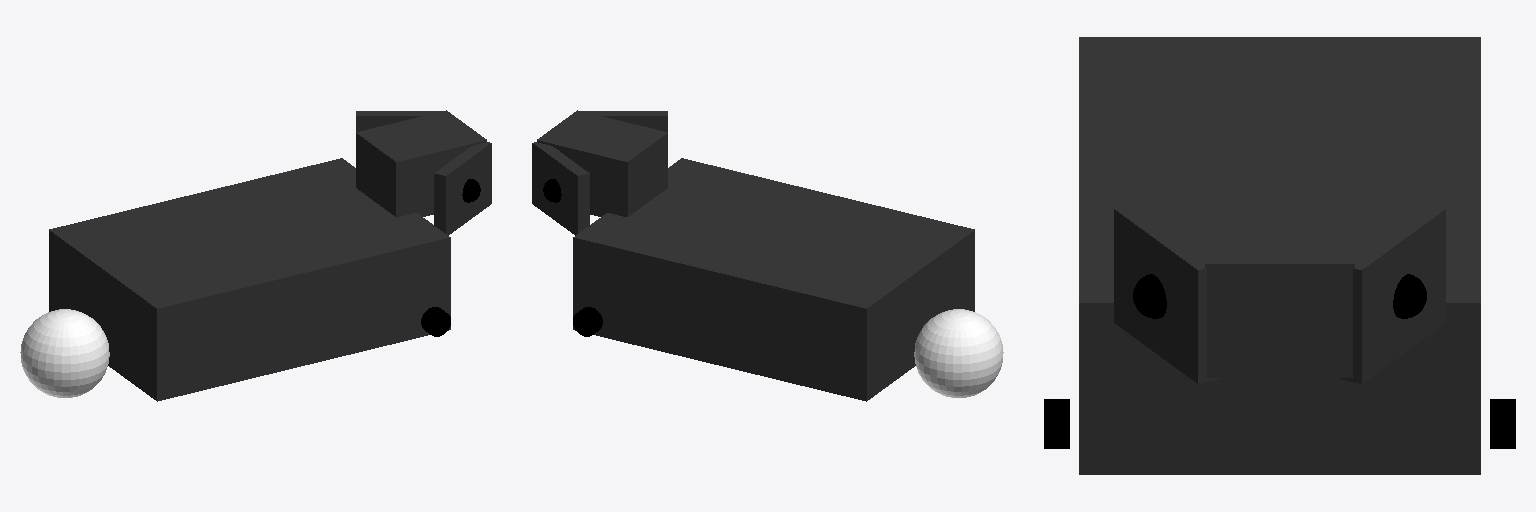
URDF robot description (flywheel):
<?xml version="1.0"?>
<robot name="flywheel">
  <material name='grey'>
    <color rgba="0.25 0.25 0.25 1"/>
  </material>
  <material name='black'>
    <color rgba="0 0 0 1"/>
  </material>
  <material name='white'>
    <color rgba="1 1 1 1"/>
  </material>

  <link name="base_link">
  </link>

  <joint name="chassis_joint" type="fixed">
    <parent link="base_link"/>
    <child link="chassis"/>
    <origin xyz="0 0 0"/>
  </joint>
  <link name="chassis">
    <visual>
      <geometry>
        <box size="0.25 0.16 0.0755"/>
      </geometry>
      <material name="grey"/>
      <origin rpy="0 0 0" xyz="-0.107705 0 .0235"/>
    </visual>
    <collision>
      <geometry>
        <box size="0.25 0.16 0.0755"/>
      </geometry>
      <origin rpy="0 0 0" xyz="-0.107705 0 .0235"/>
    </collision>
    <visual>
      <geometry>
        <box size="0.077488 0.06 0.05"/>
      </geometry>
      <origin rpy="0 0 0" xyz="0.038744 0 0.08125"/>
      <material name="grey"/>
    </visual>
    <collision>
      <geometry>
        <box size="0.077488 0.06 0.05"/>
      </geometry>
      <origin rpy="0 0 0" xyz="0.038744 0 0.08125"/>
    </collision>
    <visual>
      <geometry>
        <box size="0.06734 0.01 0.05"/>
      </geometry>
      <origin rpy="0 0 -0.523599" xyz="0.04793 0.045067 0.0795"/>
      <material name='grey'/>
    </visual>
    <collision>
      <geometry>
        <box size="0.06734 0.01 0.05"/>
      </geometry>
      <origin rpy="0 0 -0.523599" xyz="0.04793 0.045067 0.0795"/>
    </collision>
    <visual>
      <geometry>
        <box size="0.06734 0.01 0.05"/>
      </geometry>
      <origin rpy="0 0 0.523599" xyz="0.04793 -0.045067 0.0795"/>
      <material name='grey'/>
    </visual>
    <collision>
      <geometry>
        <box size="0.06734 0.01 0.05"/>
      </geometry>
      <origin rpy="0 0 0.523599" xyz="0.04793 -0.045067 0.0795"/>
    </collision>
    <inertial>
      <mass value="1.414"/>
      <inertia ixx="0.003688" ixy="0.0" ixz="0.0" iyy="0.008036" iyz="0.0" izz=".010381"/>
      <origin rpy="0 0 0" xyz="-0.107705 0 .0235"/>
    </inertial>
  </link>
  <gazebo reference="chassis">
    <material>Gazebo/DarkGrey</material>
    <!-- <mu1 value="0.001"/>
    <mu2 value="0.001"/> -->
  </gazebo>

  <joint name="camera_left_joint" type="fixed">
    <parent link="chassis"/>
    <child link="camera_left"/>
    <!-- <origin rpy="0 1.57075 -0.523599" xyz="0.04793 0.045067 0.0795"/> -->
    <origin rpy="0 0 1.047151" xyz="0.0502 0.049522 0.0795"/>
  </joint>
  <link name="camera_left">
    <visual>
      <geometry>
        <sphere length="0.015" radius="0.009"/>
      </geometry>
      <material name="black"/>
    </visual>
    <collision>
      <geometry>
        <sphere length="0.015" radius="0.009"/>
      </geometry>
    </collision>
    <inertial>
      <mass value="2.8498940e-02" />
      <inertia ixx="5.7929667e-05" ixy="0.0" ixz="0.0"
               iyy="5.7929667e-05" iyz="-1.4400107e-11"
               izz="1.923075e-05" />
    </inertial>
  </link>
  <gazebo reference="camera_left">
    <material>Gazebo/Black</material>
    <sensor name="camera_sensor_left" type="camera">
      <pose> 0 0 0 0 0 0 </pose>
      <visualize>true</visualize>
      <update_rate>30</update_rate>
      <camera>
        <horizontal_fov>2.79253</horizontal_fov>
        <image>
          <format>R8G8B8</format>
          <width>1640</width>
          <height>1232</height>
        </image>
        <clip>
            <near>0.02</near>
            <far>20.0</far>
        </clip>
        <noise>
          <type>gaussian</type>
          <mean>0.0</mean>
          <stddev>0.007</stddev>
        </noise>
      </camera>
      <plugin name="camera_left_controller" filename="libgazebo_ros_camera.so">
        <cameraName>camera_left</cameraName>
        <imageTopicName>image_raw</imageTopicName>
        <cameraInfoTopicName>camera_info</cameraInfoTopicName>
        <frameName>camera_left_optical</frameName>
      </plugin>
    </sensor>
  </gazebo>
  <joint name="camera_left_optical_joint" type="fixed">
    <origin xyz="0 0 0" rpy="-1.57075 0 -1.57075" />
    <parent link="camera_left" />
    <child link="camera_left_optical" />
  </joint>
  <link name="camera_left_optical"></link>

  <joint name="camera_right_joint" type="fixed">
    <parent link="chassis"/>
    <child link="camera_right"/>
    <!-- <origin rpy="-1.57075 0 -0.523599" xyz="0.04793 -0.045067 0.0795"/> -->
    <origin rpy="0 0 -1.047151" xyz="0.0502 -0.049522 0.0795"/>
  </joint>
  <link name="camera_right">
    <visual>
      <geometry>
        <sphere radius="0.009"/>
      </geometry>
      <material name="black"/>
    </visual>
    <collision>
      <geometry>
        <sphere radius="0.001"/>
      </geometry>
    </collision>
    <inertial>
      <mass value="2.8498940e-02" />
      <inertia ixx="5.7929667e-05" ixy="0.0" ixz="0.0"
               iyy="5.7929667e-05" iyz="-1.4400107e-11"
               izz="1.923075e-05" />
    </inertial>
  </link>
  <gazebo reference="camera_right">
    <material>Gazebo/Black</material>
    <sensor name="camera_sensor_right" type="camera">
      <pose> 0 0 0 0 0 0 </pose>
      <visualize>true</visualize>
      <update_rate>30</update_rate>
      <camera>
        <horizontal_fov>2.79253</horizontal_fov>
        <image>
          <format>R8G8B8</format>
          <width>1640</width>
          <height>1232</height>
        </image>
        <clip>
            <near>0.02</near>
            <far>20.0</far>
        </clip>
        <noise>
          <type>gaussian</type>
          <mean>0.0</mean>
          <stddev>0.007</stddev>
        </noise>
      </camera>
      <plugin name="camera_right_controller" filename="libgazebo_ros_camera.so">
        <cameraName>camera_right</cameraName>
        <imageTopicName>image_raw</imageTopicName>
        <cameraInfoTopicName>camera_info</cameraInfoTopicName>
        <frameName>camera_right_optical</frameName>
      </plugin>
    </sensor>
  </gazebo>
  <joint name="camera_right_optical_joint" type="fixed">
    <origin xyz="0 0 0" rpy="-1.57075 0 -1.57075" />
    <parent link="camera_right" />
    <child link="camera_right_optical" />
  </joint>
  <link name="camera_right_optical"></link>

  <link name="caster">
    <visual>
      <geometry>
        <sphere radius="0.033"/>
      </geometry>
      <origin rpy="0 0 0" xyz="-0.264960 0 0"/>
      <material name="white"/>
    </visual>
    <collision>
      <geometry>
        <sphere radius="0.033"/>
      </geometry>
      <origin rpy="0 0 0" xyz="-0.264960 0 0"/>
    </collision>
    <inertial>
      <mass value="0.00001"/>
      <inertia ixx="4.356E-9" ixy="0.0" ixz="0.0" iyy="4.356E-9" iyz="0.0" izz="4.356E-9"/>
      <origin rpy="1.57075 0 0" xyz="0 0.008692 0"/>
    </inertial>
  </link>
  <joint name="caster_joint" type="fixed">
    <parent link="chassis"/>
    <child link="caster"/>
    <origin xyz="0 0 0"/>
  </joint>
  <gazebo reference="caster">
    <material>Gazebo/White</material>
    <mu1 value="0.001"/>
    <mu2 value="0.001"/>
  </gazebo>

  <link name="wheel_left">
    <visual>
      <geometry>
        <cylinder length="0.01" radius="0.01"/>
      </geometry>
      <material name="black"/>
      <origin rpy="1.57075 0 0" xyz="0 0.008692 0"/>
    </visual>
    <collision>
      <geometry>
        <cylinder length="0.017797" radius="0.033"/>
      </geometry>
      <origin rpy="1.57075 0 0" xyz="0 0.008692 0"/>
    </collision>
    <inertial>
      <mass value="2.8498940e-02" />
      <inertia ixx="1.1175580e-05" ixy="-4.2369783e-11" ixz="-5.9381719e-09"
               iyy="1.1192413e-05" iyz="-1.4400107e-11"
               izz="2.0712558e-05" />
      <origin rpy="1.57075 0 0" xyz="0 0.008692 0"/>
    </inertial>
  </link>
  <joint name="base_to_wheel_left" type="continuous">
    <parent link="chassis"/>
    <child link="wheel_left"/>
    <axis xyz="0 1 0"/>
    <origin xyz="0 0.08 0"/>
  </joint>
  <gazebo reference="wheel_left">
    <material>Gazebo/Black</material>
    <mu1>0.9</mu1>
    <mu2>0.9</mu2>
    <minDepth>0.001</minDepth>
    <kp>100000000</kp>
    <kd>1</kd>
  </gazebo>
  <gazebo reference="base_to_wheel_left">
       <implicitSpringDamper>true</implicitSpringDamper>
  </gazebo>

  <link name="wheel_right">
    <visual>
      <geometry>
        <cylinder length="0.01" radius="0.01"/>
      </geometry>
      <material name="black"/>
      <origin rpy="1.57075 0 0" xyz="0 -0.008692 0"/>
    </visual>
    <collision>
      <geometry>
        <cylinder length="0.017797" radius="0.033"/>
      </geometry>
      <origin rpy="1.57075 0 0" xyz="0 -0.008692 0"/>
    </collision>
    <inertial>
      <mass value="2.8498940e-02" />
      <inertia ixx="1.1175580e-05" ixy="-4.2369783e-11" ixz="-5.9381719e-09"
               iyy="1.1192413e-05" iyz="-1.4400107e-11"
               izz="2.0712558e-05" />
      <origin rpy="1.57075 0 0" xyz="0 -0.008692 0"/>
    </inertial>
  </link>
  <joint name="base_to_wheel_right" type="continuous">
    <parent link="chassis"/>
    <child link="wheel_right"/>
    <axis xyz="0 1 0"/>
    <origin xyz="0 -0.08 0"/>
  </joint>
  <gazebo reference="wheel_right">
    <material>Gazebo/Black</material>
    <mu1>0.9</mu1>
    <mu2>0.9</mu2>
    <minDepth>0.001</minDepth>
    <kp>100000000</kp>
    <kd>1</kd>
  </gazebo>
  <gazebo reference="base_to_wheel_right">
       <implicitSpringDamper>true</implicitSpringDamper>
  </gazebo>

  <gazebo>
        <plugin name='diff_drive' filename='libgazebo_ros_diff_drive.so'>
    
    
            <!-- Wheel Information -->
            <leftJoint>base_to_wheel_left</leftJoint>
            <rightJoint>base_to_wheel_right</rightJoint>
            <wheelSeparation>0.177797</wheelSeparation>
            <wheelDiameter>0.066</wheelDiameter>
    

            <!-- Limits -->
            <wheelTorque>200</wheelTorque>
            <wheelAcceleration>10.0</wheelAcceleration>
    

            <!-- Output -->
            <odometryFrame>odom</odometryFrame>
            <robotBaseFrame>base_link</robotBaseFrame>

            <publishOdom>true</publishOdom>
            <publishOdomTF>true</publishOdomTF>
            <publishWheelTF>true</publishWheelTF>
    
    
        </plugin>
    </gazebo>
</robot>

--- Render facts (derived) ---
3 views of the same robot in one strip: view 1: azimuth 30°, elevation 25°; view 2: azimuth 150°, elevation 25°; view 3: azimuth 270°, elevation 25° (orthographic).
Robot: flywheel — 9 links, 8 joints (2 continuous, 6 fixed); root link base_link; default pose: all joints at 0.
Visible links, largest first — view 1: chassis, caster, wheel_right; view 2: chassis, caster, wheel_left; view 3: chassis, wheel_left, wheel_right, camera_left, camera_right.
Link boxes in pixels (<box>): chassis: <box>49,110,491,401</box>; caster: <box>20,309,109,397</box>; wheel_right: <box>421,307,450,336</box>; chassis: <box>532,110,974,401</box>; caster: <box>914,309,1003,397</box>; wheel_left: <box>573,307,602,336</box>; chassis: <box>1079,37,1480,474</box>; wheel_left: <box>1490,399,1515,448</box>; wheel_right: <box>1044,399,1069,448</box>; camera_left: <box>1393,274,1426,318</box>; camera_right: <box>1133,274,1166,318</box>.
Bounding box of the posed robot: 0.3775 × 0.1874 × 0.1393 m (x, y, z).
Geometry: primitives only (box / cylinder / sphere), no mesh files.